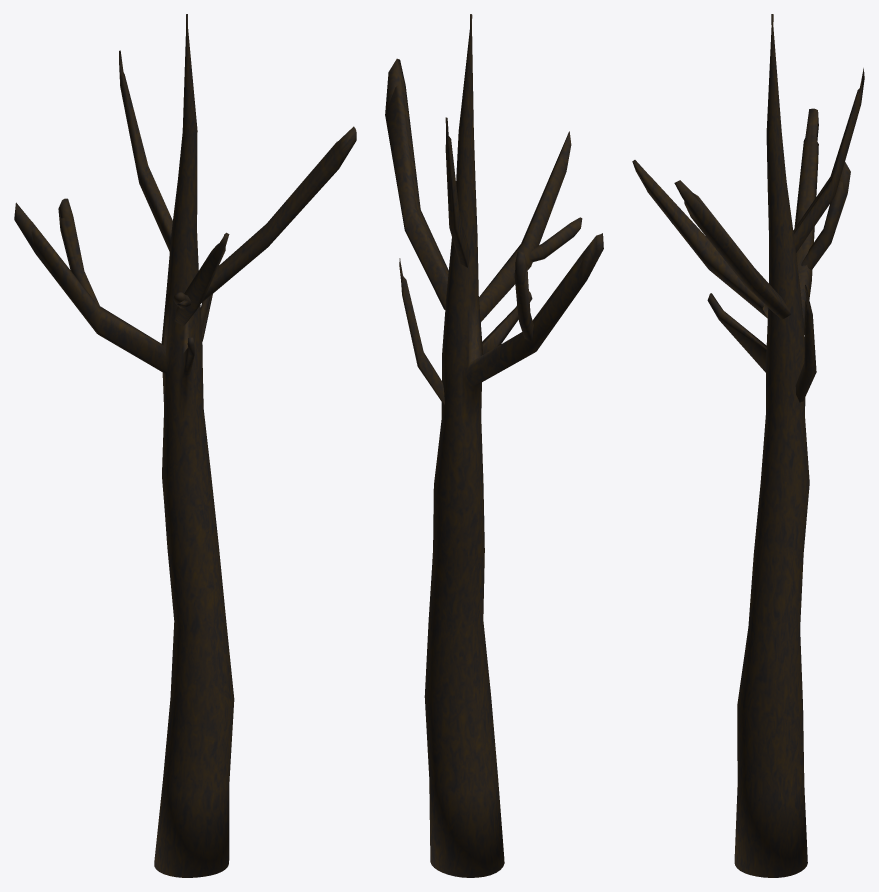
The model's file is DeadTree3.fbx.
3 renders of one model, left to right at view 1: azimuth 30°, elevation 25°; view 2: azimuth 150°, elevation 25°; view 3: azimuth 270°, elevation 25°, orthographic.
Parts seen in each view (by area): view 1: DeadTree3; view 2: DeadTree3; view 3: DeadTree3.
Part boxes in pixels (x1,y1,x2,y2): DeadTree3: [14, 14, 356, 877]; DeadTree3: [385, 14, 603, 877]; DeadTree3: [632, 14, 864, 877].
Bounding box in the file's own units: 214 × 628 × 156.
1 material, 1 textured.
